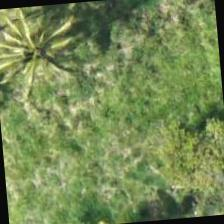Kelapa_Sawit: (0, 4, 87, 102)
